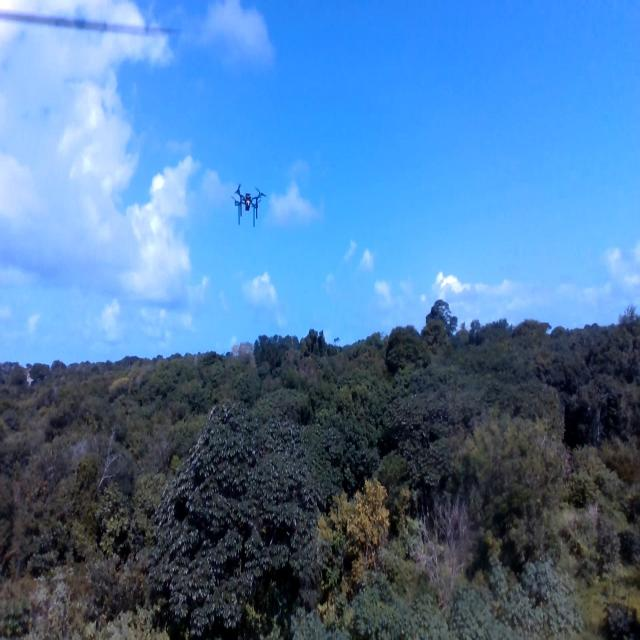-uav-: (225, 168, 267, 231)
